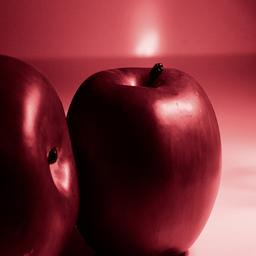apple: (66, 65, 224, 250)
